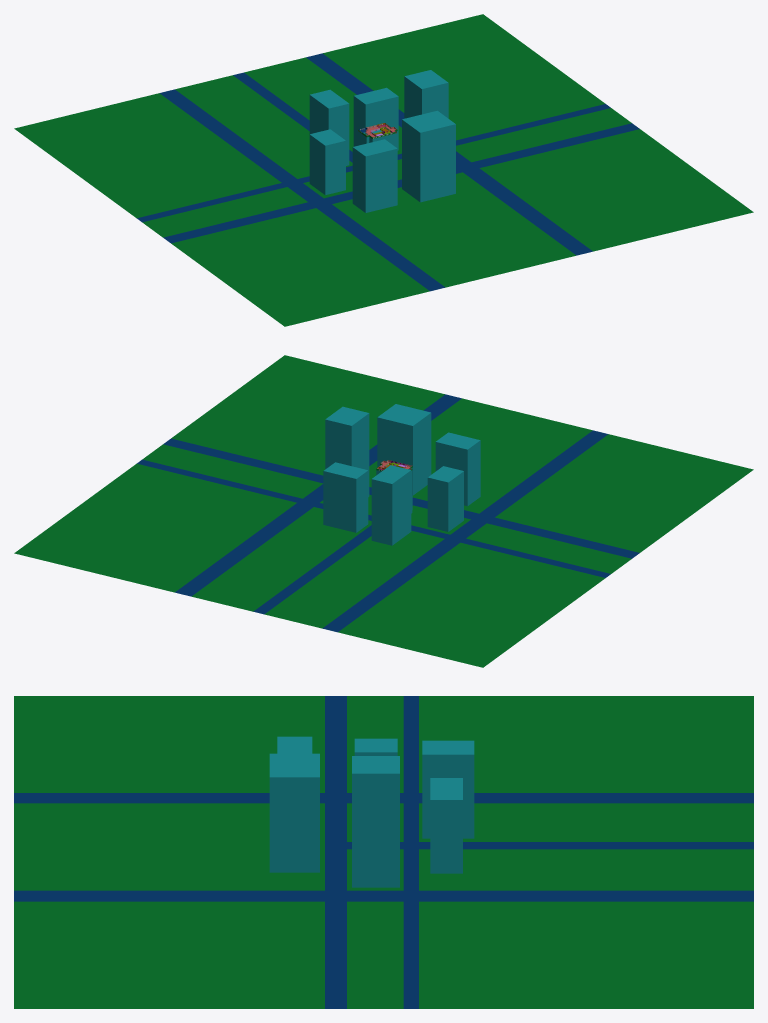
Rendered from NewWorkWalls.fbx.
The picture shows the model from 3 angles, top to bottom: view 1: azimuth 30°, elevation 25°; view 2: azimuth 150°, elevation 25°; view 3: azimuth 270°, elevation 25°; orthographic projection. The views are drawn at different scales.
Parts seen in each view (by area): view 1: Outside; view 2: Outside; view 3: Outside.
Part boxes in pixels (left/top/right/bottom): Outside: left=14, top=14, right=753, bottom=326; Outside: left=14, top=355, right=753, bottom=667; Outside: left=14, top=696, right=753, bottom=1008.
Bounding box in the file's own units: 789379 × 134162 × 789379.
